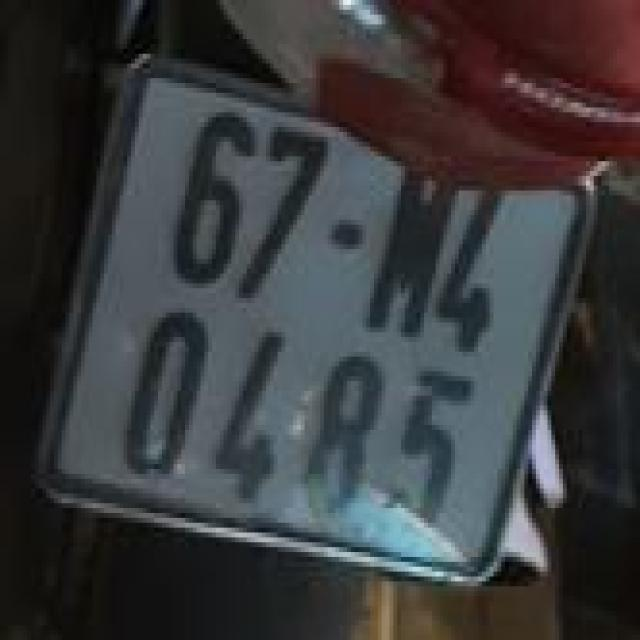0: (116, 299, 224, 483)
4: (423, 174, 544, 366), (206, 313, 316, 510)
5: (379, 355, 484, 546)
6: (160, 96, 267, 304)
7: (232, 110, 342, 309)
8: (292, 338, 403, 536)
M: (360, 150, 476, 349)
